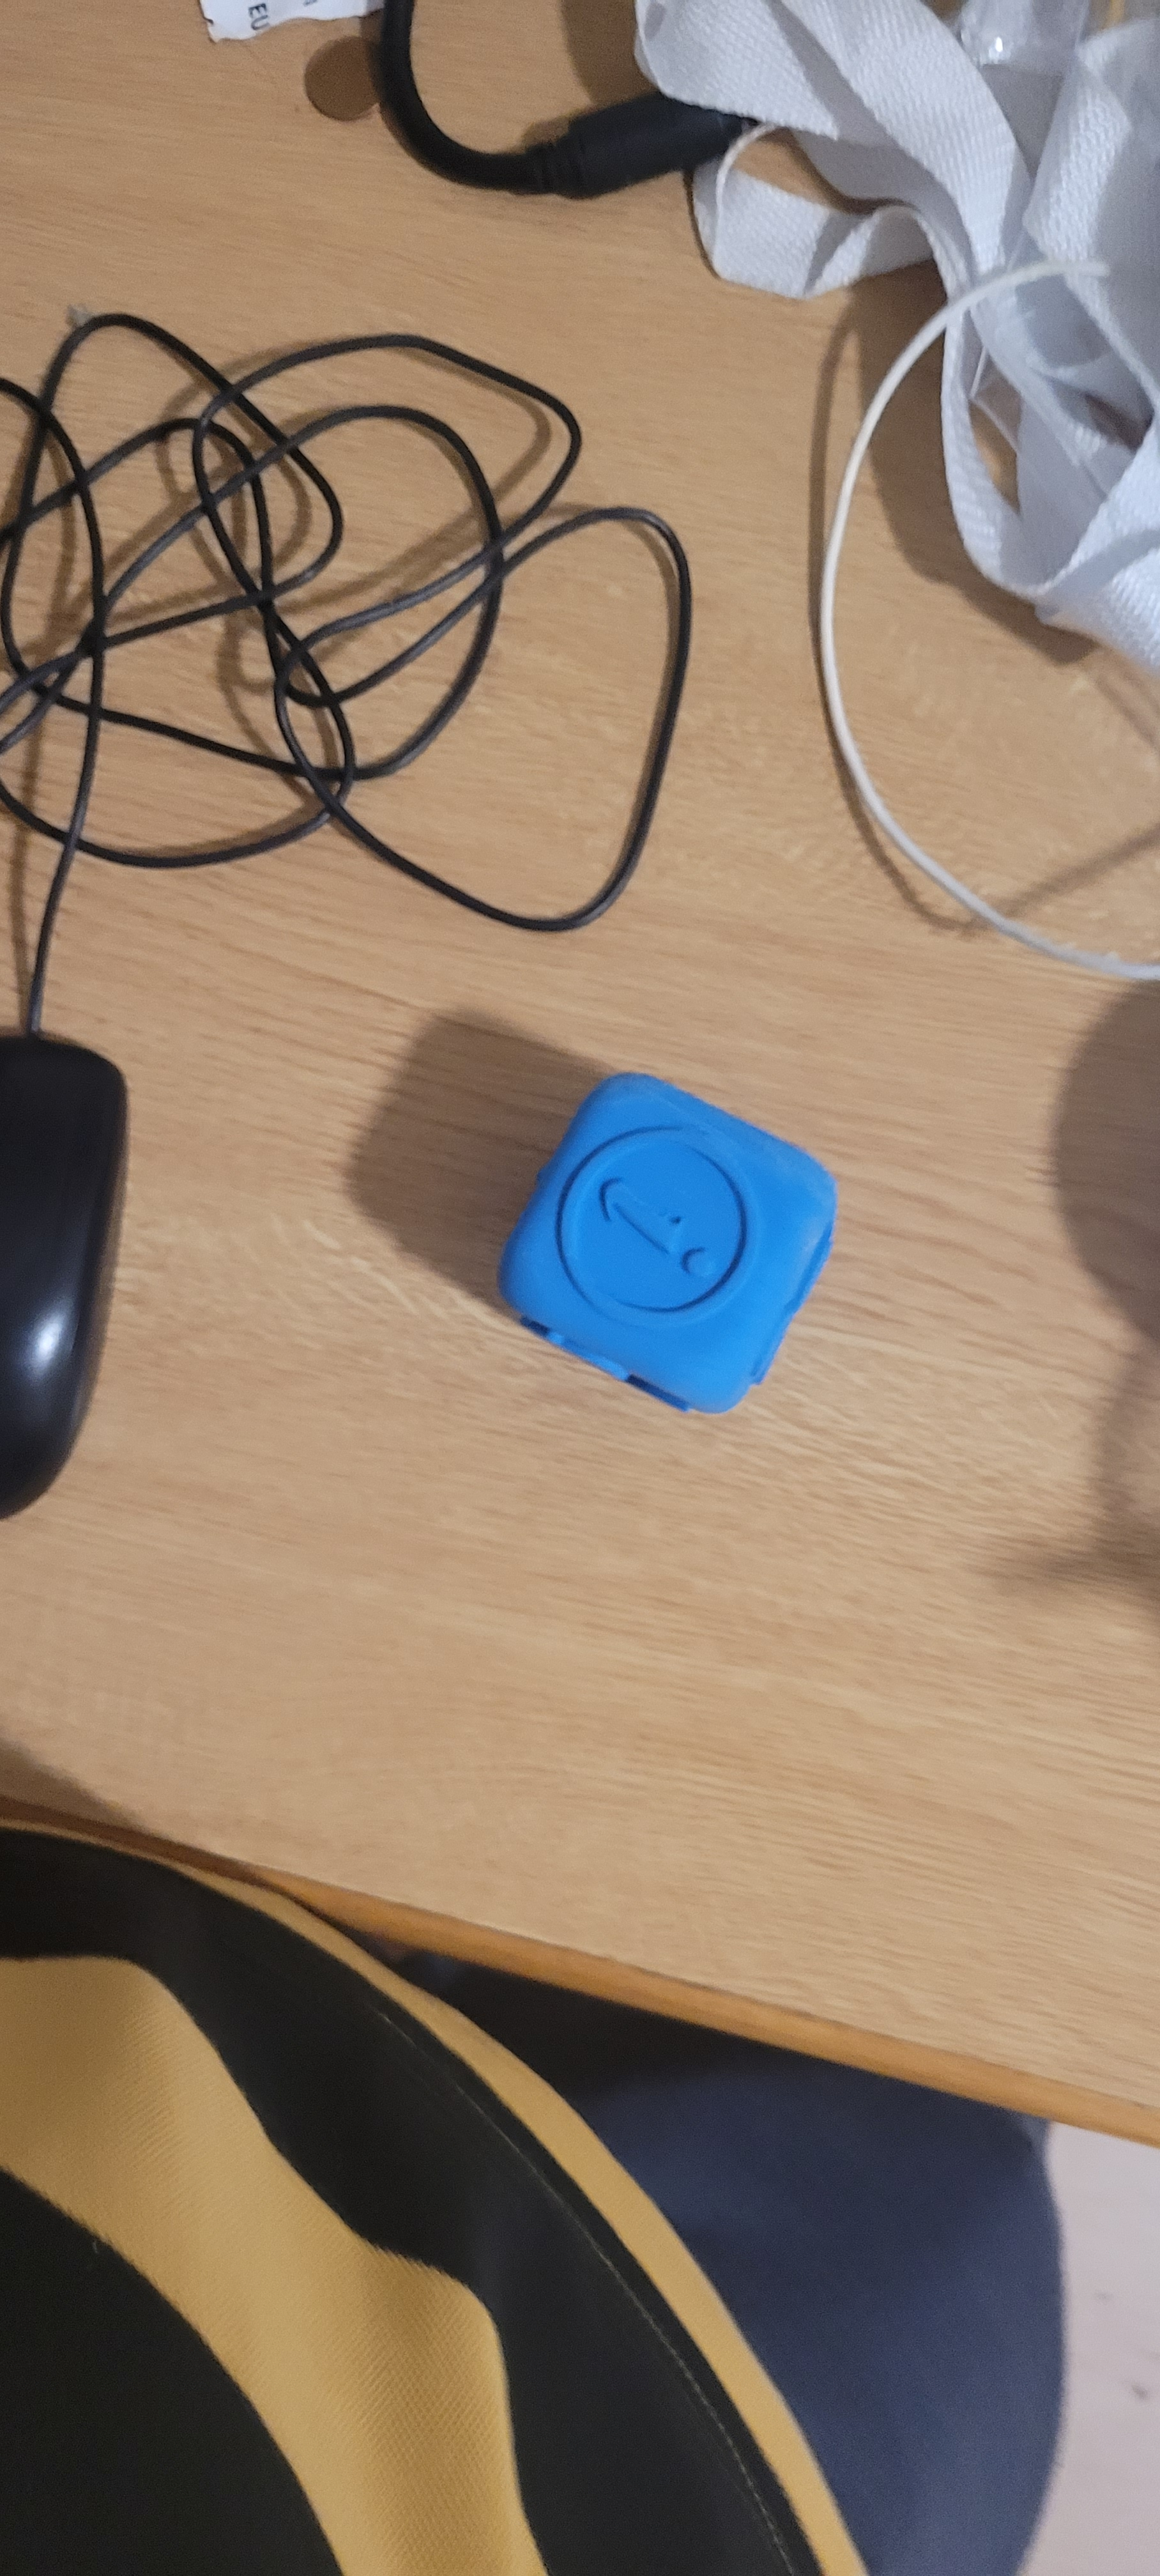Info: (542, 1083, 767, 1370)
